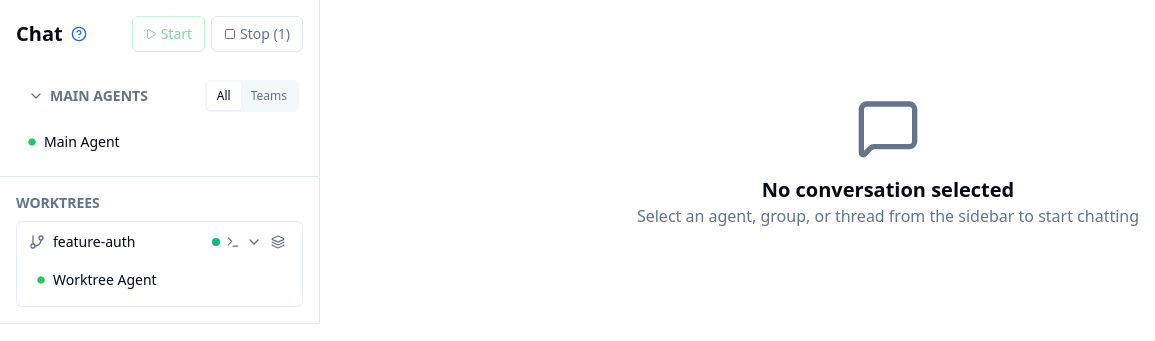
Test case: ChatPage worktree provider config context menu › renders cascading model submenu with override label for providers that have models
The width and height of the screenshot is (1155, 341).
Right-click the list item with aria-label "Open terminal for Worktree Agent in feature-auth (online)" at (160, 280), box x1=25 y1=262 x2=294 y2=298
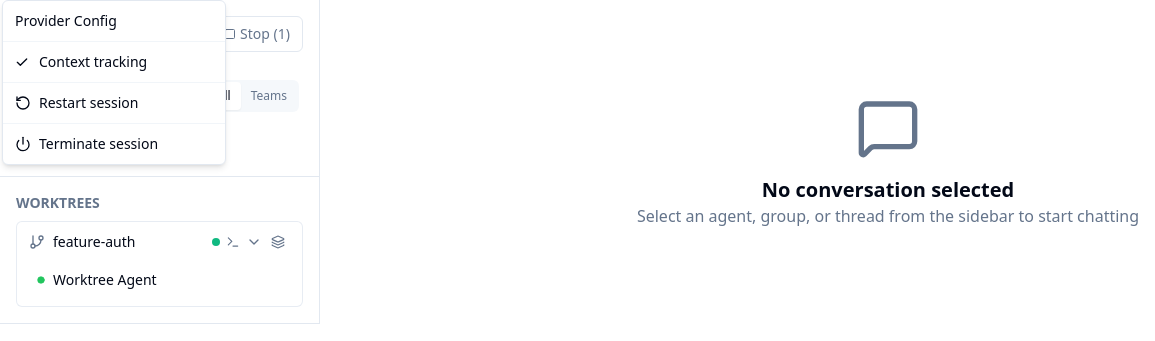
Press ArrowRight in the menu item "Provider Config", box x1=15 y1=11 x2=117 y2=30
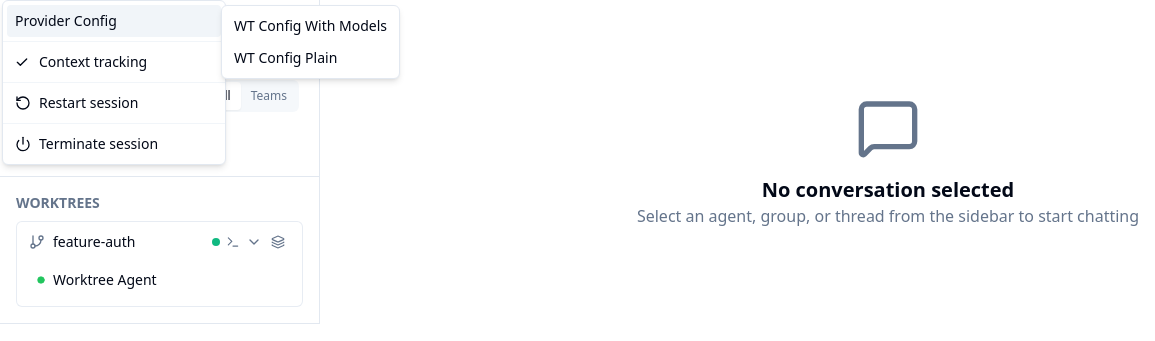
expect the menu item "WT Config Plain" is shown: met, box x1=234 y1=48 x2=337 y2=67
Press ArrowRight in the menu item "WT Config With Models", box x1=234 y1=16 x2=387 y2=35
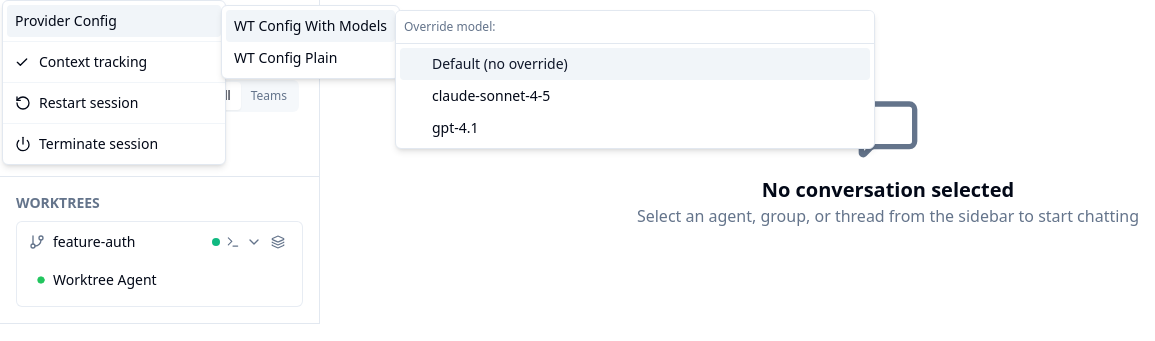
expect the text "Override model:" is shown: met, box x1=404 y1=18 x2=496 y2=35
expect the menu item "Default (no override)" is shown: met, box x1=400 y1=48 x2=870 y2=80
expect the menu item "claude-sonnet-4-5" is shown: met, box x1=432 y1=86 x2=550 y2=105
